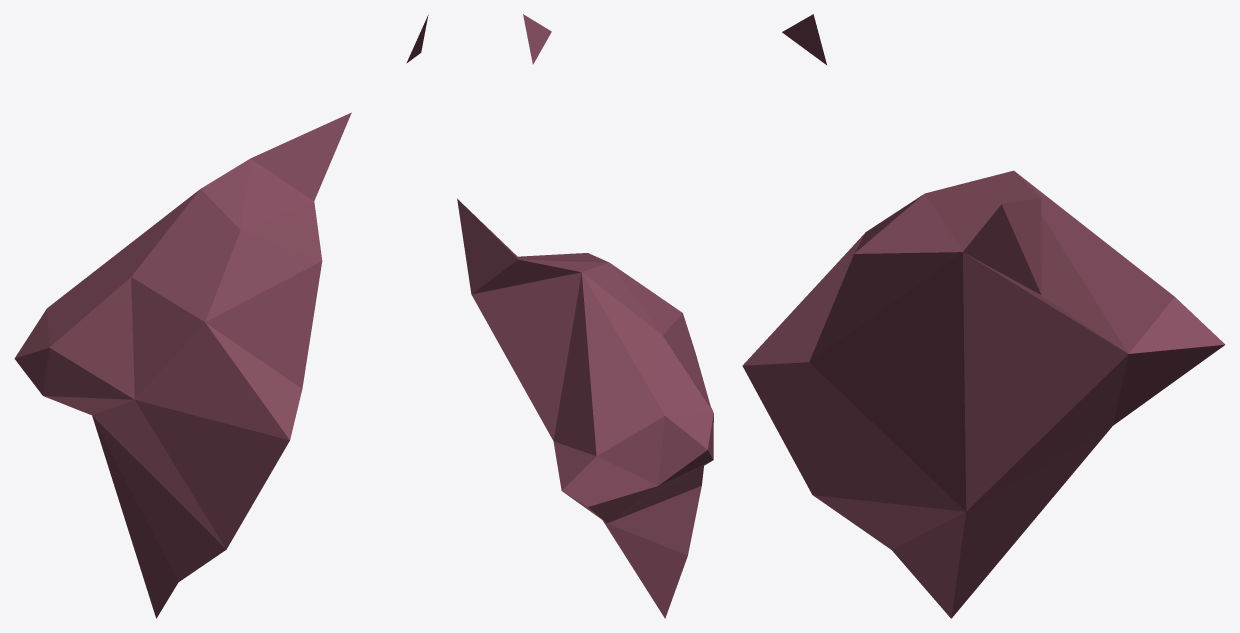
The model's file is Model_543_RH__Ventral_nucleus_of_the_lateral_lemniscus_(VLL).obj.
3 renders of one model, left to right at view 1: azimuth 30°, elevation 25°; view 2: azimuth 150°, elevation 25°; view 3: azimuth 270°, elevation 25°, orthographic. The views are drawn at different scales.
Size of the model in its own units: 0.1816 by 0.3298 by 0.1961.
